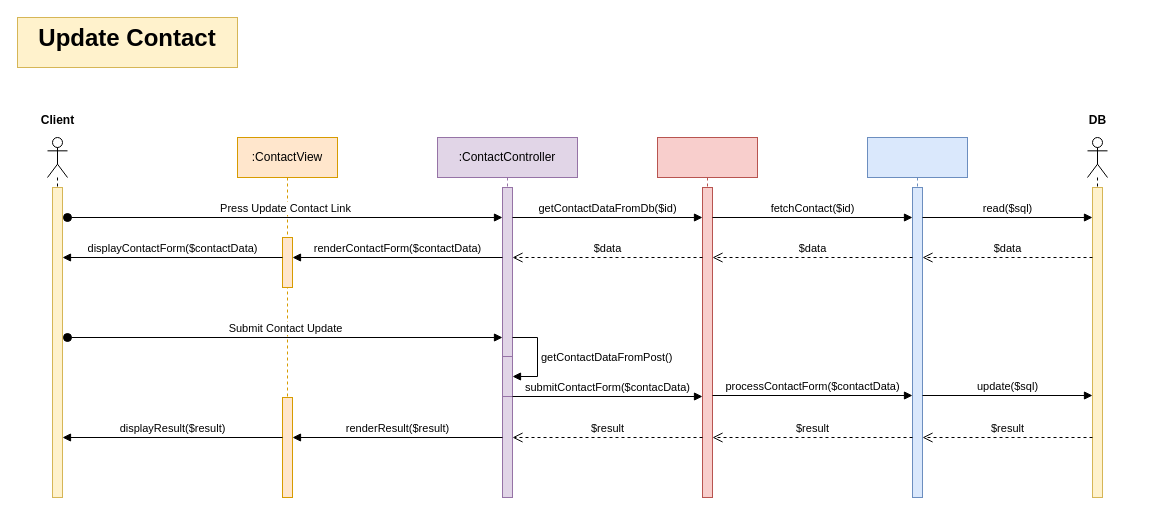
This 1155x515 diagram has some shape labels left out. The box of each missing label's shape, as (x1, y1, x2, y2) in pixels:
:Contact: (656, 136, 758, 498)
:ContactRepo: (866, 136, 968, 498)
